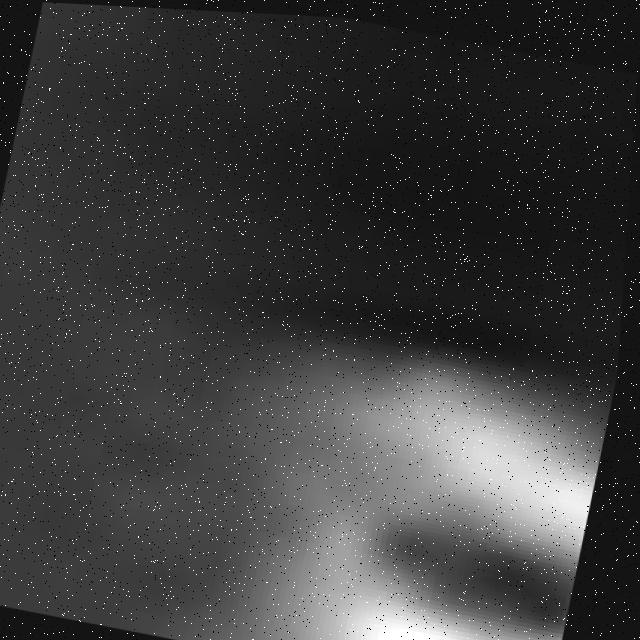person: (214, 323, 622, 568), (90, 493, 585, 640)
